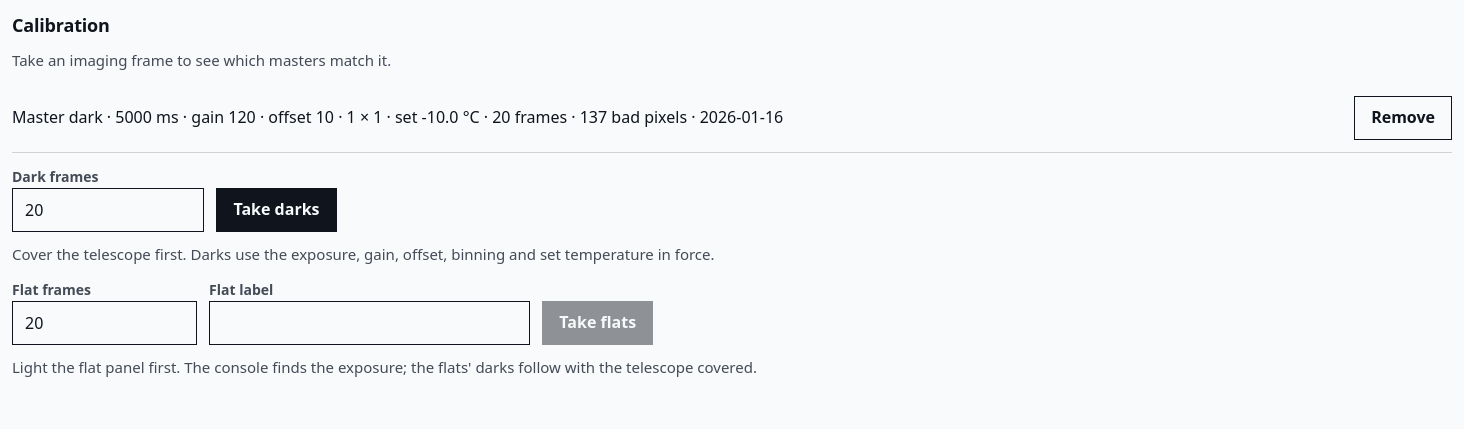
Scenario: US9-S3: taking darks and flats › shows a refusal unchanged for Take darks without onChange
Type "desk" into the field labelled "Flat label" at {"x": 370, "y": 323}, box [209, 301, 530, 345]
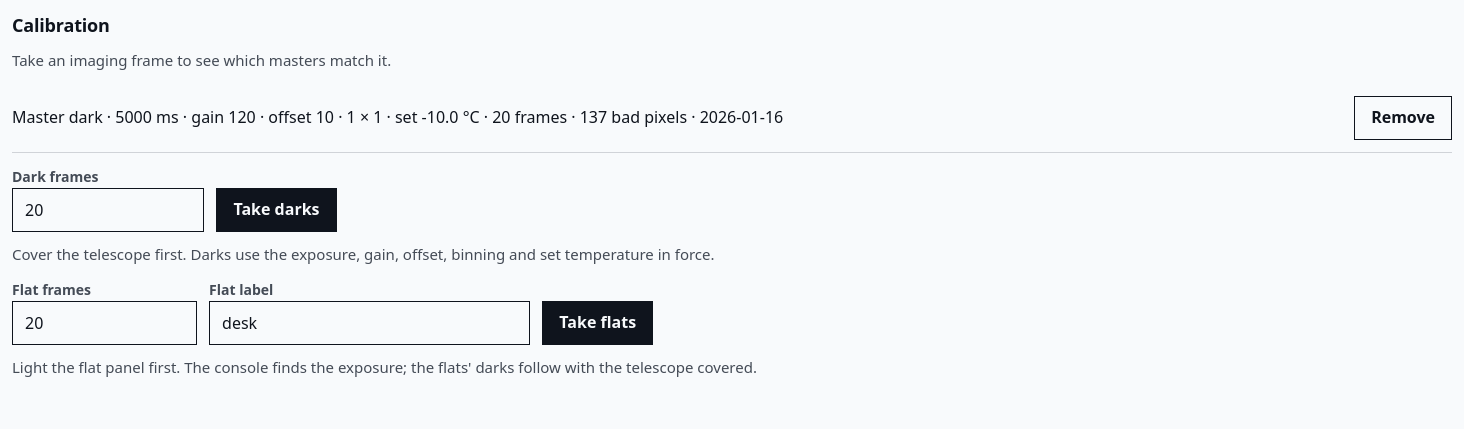
Click the button "Take darks" at {"x": 276, "y": 210}, box [216, 188, 336, 232]
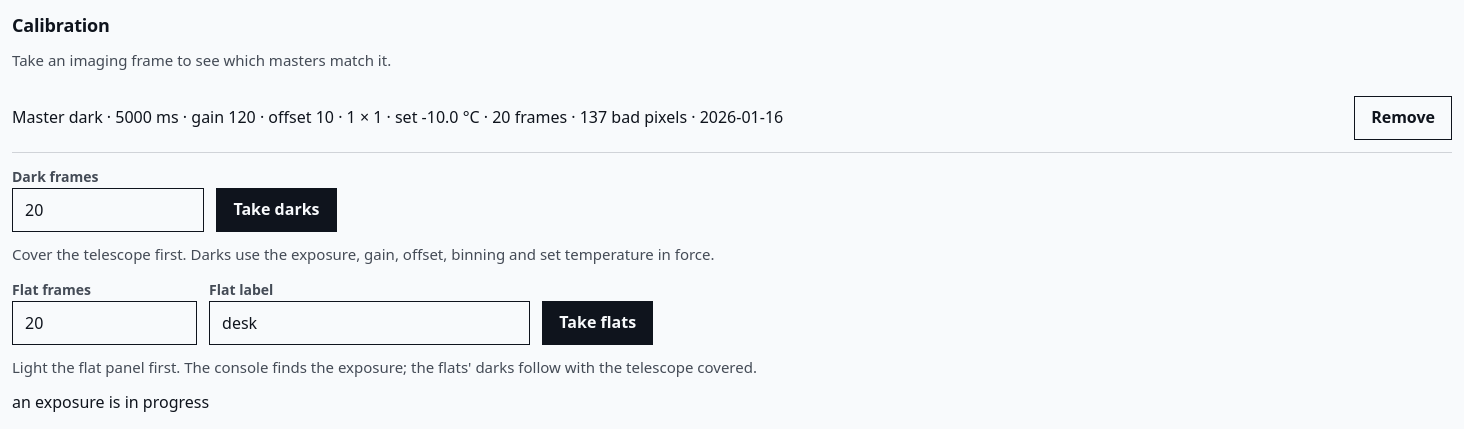
Now the message reads "an exposure is in progress", box [12, 391, 209, 413]
